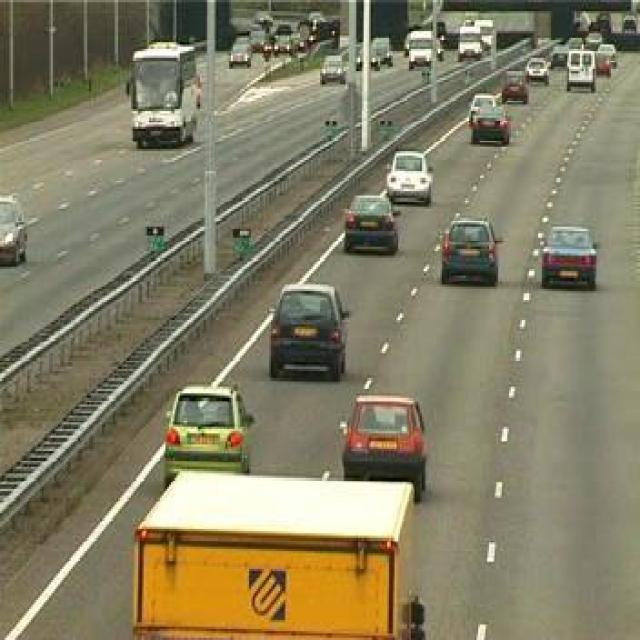other: (148, 454, 396, 624)
